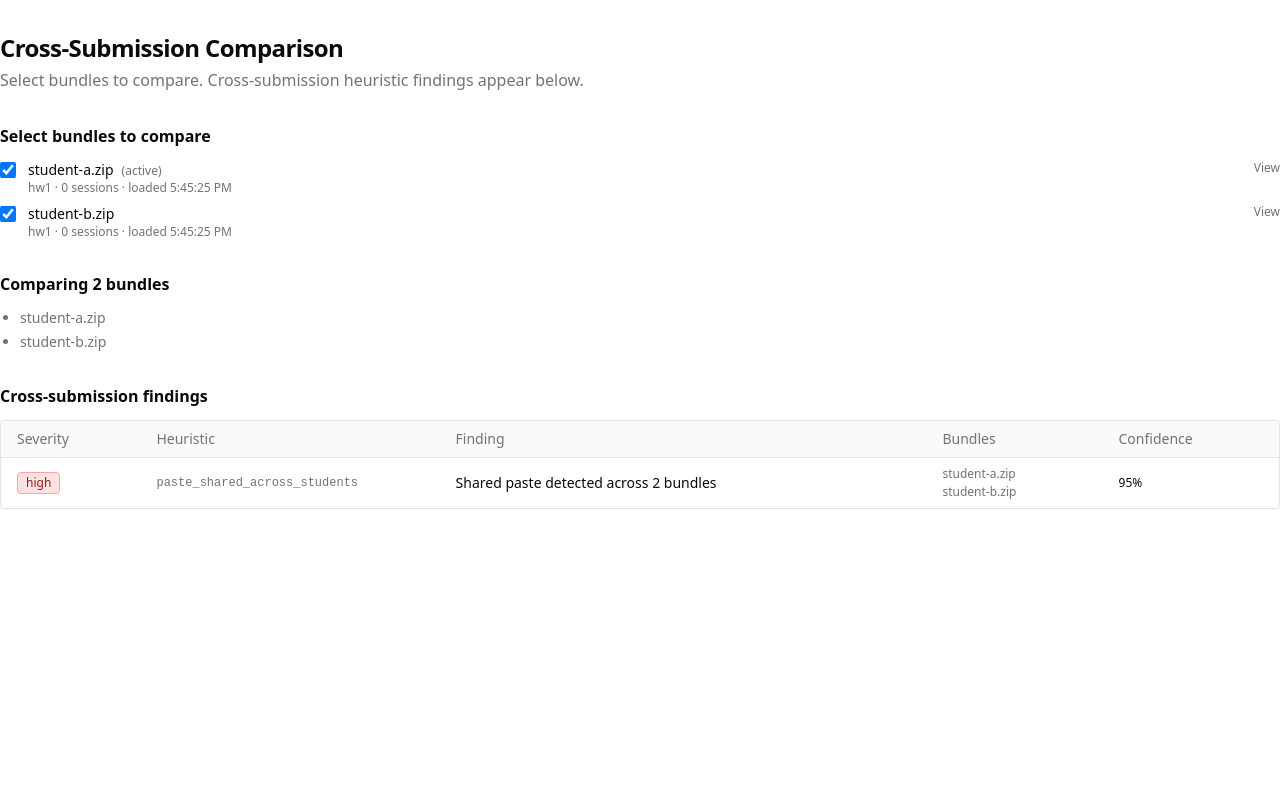
CompareView — Phase 18 cross-flag rendering › detail pane closes when close button is clicked
What coordinates should you click on to do the following:
click the button that starts with "high"
I would click on:
 (640, 483)
Its box is [1,458,1279,508].
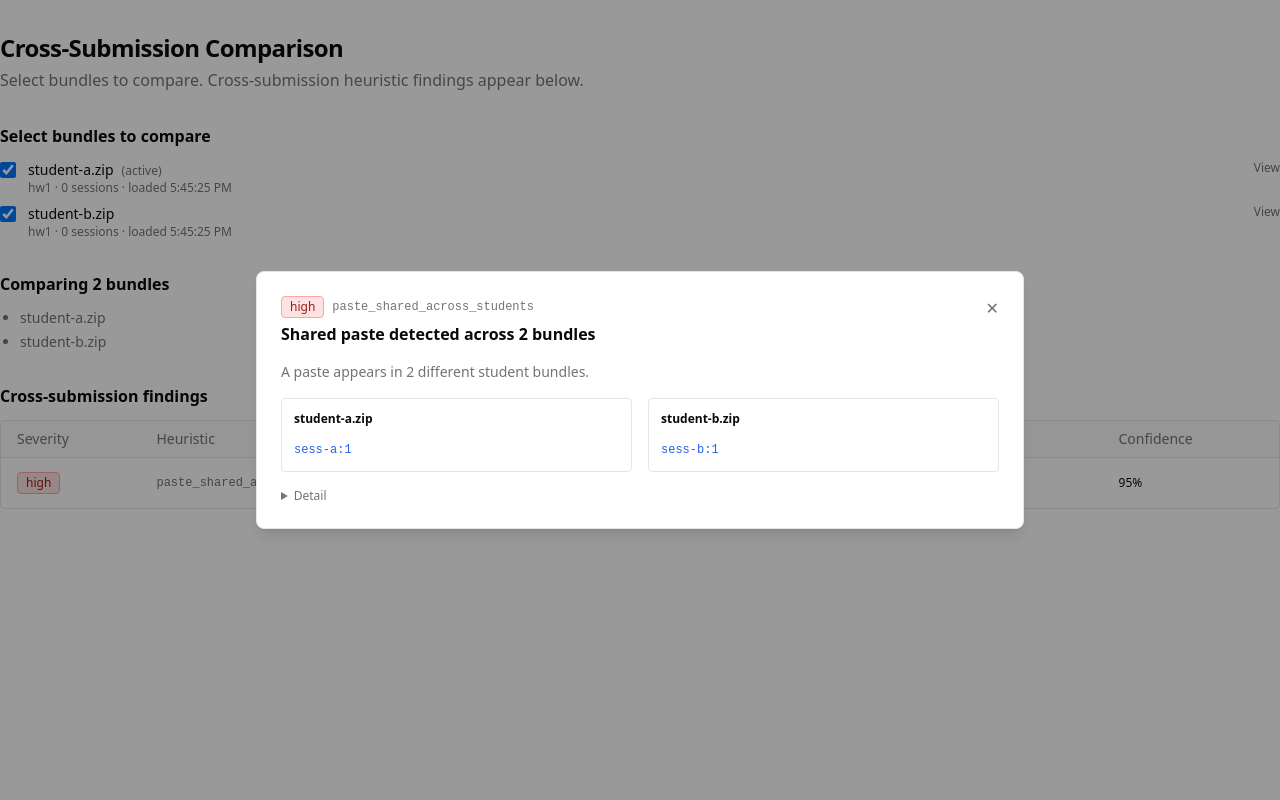
Result: the dialog with test id "cross-flag-detail-overlay" is shown
What coordinates should you click on to do the following:
click the button with test id "cross-flag-detail-close"
I would click on:
 (992, 308)
Its box is [986,296,999,320].
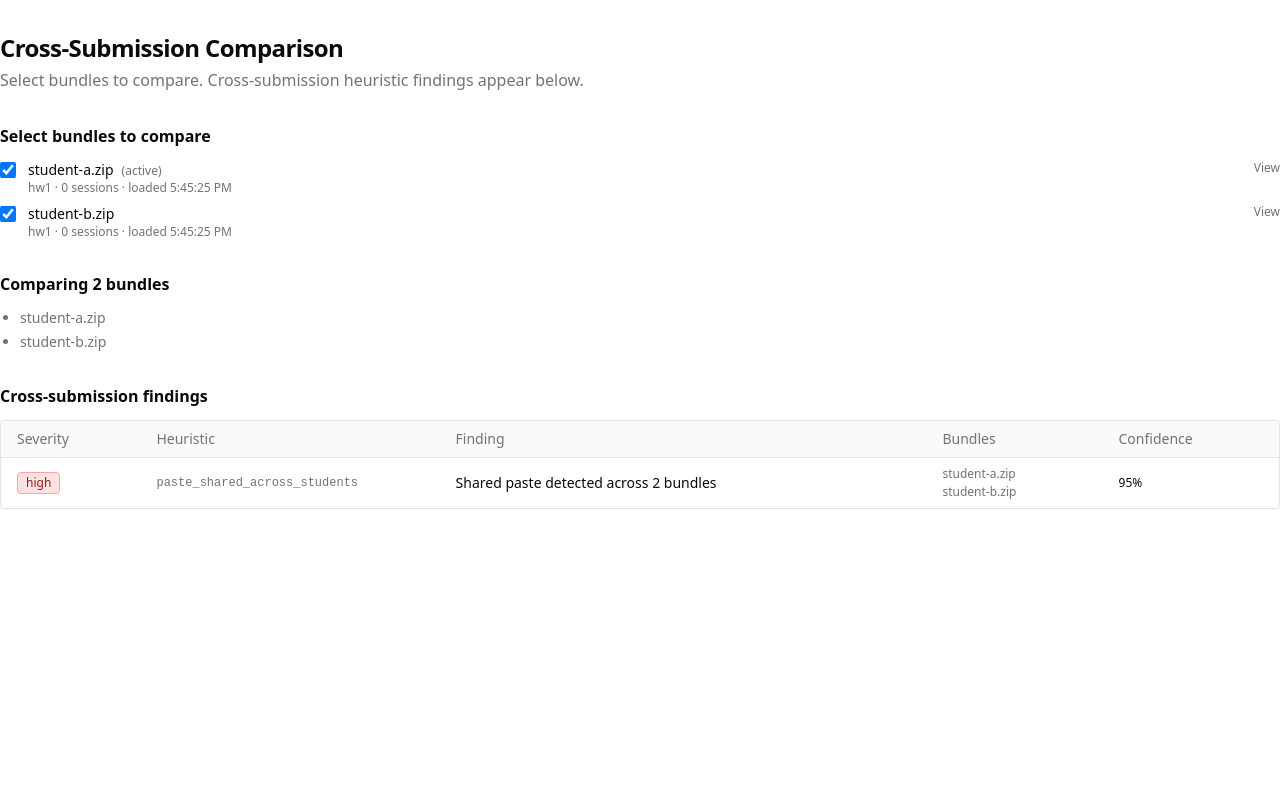
Result: the dialog with test id "cross-flag-detail-overlay" is gone
